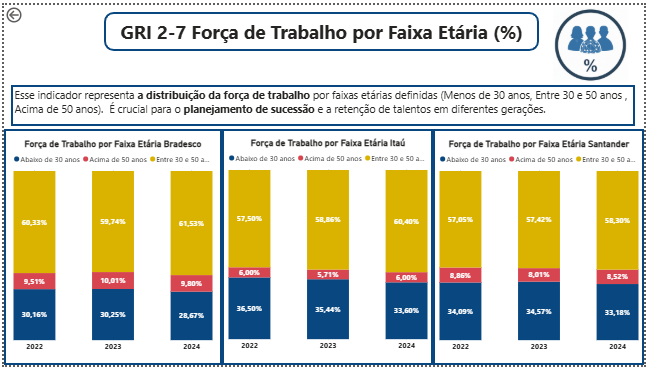

The page's visual inventory and layout, read from the dashboard file:
{"tool":"powerbi","page":{"name":"GRI 405-1 Força de Trabalho por Faixa Etária","canvas":[1280,720],"ordinal":4},"visuals":[{"type":"shape","box":[858,248,422,472],"z":0},{"type":"shape","box":[436,248,422,472],"z":1000},{"type":"shape","box":[200,14,870,78],"z":2000},{"type":"shape","box":[0,248,436,472],"z":3000},{"type":"textbox","box":[228,22,822,64],"z":4000},{"type":"hundredPercentStackedColumnChart","title":"Força de Trabalho por Faixa Etária Bradesco","fields":{"Y":["Fato.%GRI_405_1_Faixa_Etaria"],"Category":["Fato.Ano"],"Series":["Fato.Caterogia Resumida"]},"box":[14,266,408,438],"z":5000},{"type":"hundredPercentStackedColumnChart","title":"Força de Trabalho por Faixa Etária Itaú","fields":{"Y":["Fato.%GRI_405_1_Faixa_Etaria"],"Category":["Fato.Ano"],"Series":["Fato.Caterogia Resumida"]},"box":[444,264,408,438],"z":6000},{"type":"hundredPercentStackedColumnChart","title":"Força de Trabalho por Faixa Etária Santander","fields":{"Category":["Fato.Ano"],"Series":["Fato.Caterogia Resumida"],"Y":["_medidas.%GRI_405_1_Faixa_Etaria"]},"box":[866,266,408,438],"z":7000},{"type":"textbox","box":[16.8,159.6,1246.4,72.2],"z":8000},{"type":"image","box":[1072,0,202,160],"z":9000},{"type":"shape","box":[14,160,1248,82],"z":10000},{"type":"actionButton","box":[0,0,100,40],"z":11000}]}

Visuals, with their boxes in screenshot pixels (x1, y1, x2, y2), scaled from the page's 1280x720 canvas onto the 647x370 screenshot:
shape: detection(434, 127, 646, 369)
shape: detection(220, 127, 434, 369)
shape: detection(101, 7, 541, 47)
shape: detection(0, 127, 220, 369)
textbox: detection(115, 11, 531, 44)
"Força de Trabalho por Faixa Etária Bradesco" hundredPercentStackedColumnChart: detection(7, 137, 213, 362)
"Força de Trabalho por Faixa Etária Itaú" hundredPercentStackedColumnChart: detection(224, 136, 431, 361)
"Força de Trabalho por Faixa Etária Santander" hundredPercentStackedColumnChart: detection(438, 137, 644, 362)
textbox: detection(8, 82, 639, 119)
image: detection(542, 0, 644, 82)
shape: detection(7, 82, 638, 124)
actionButton: detection(0, 0, 51, 21)
